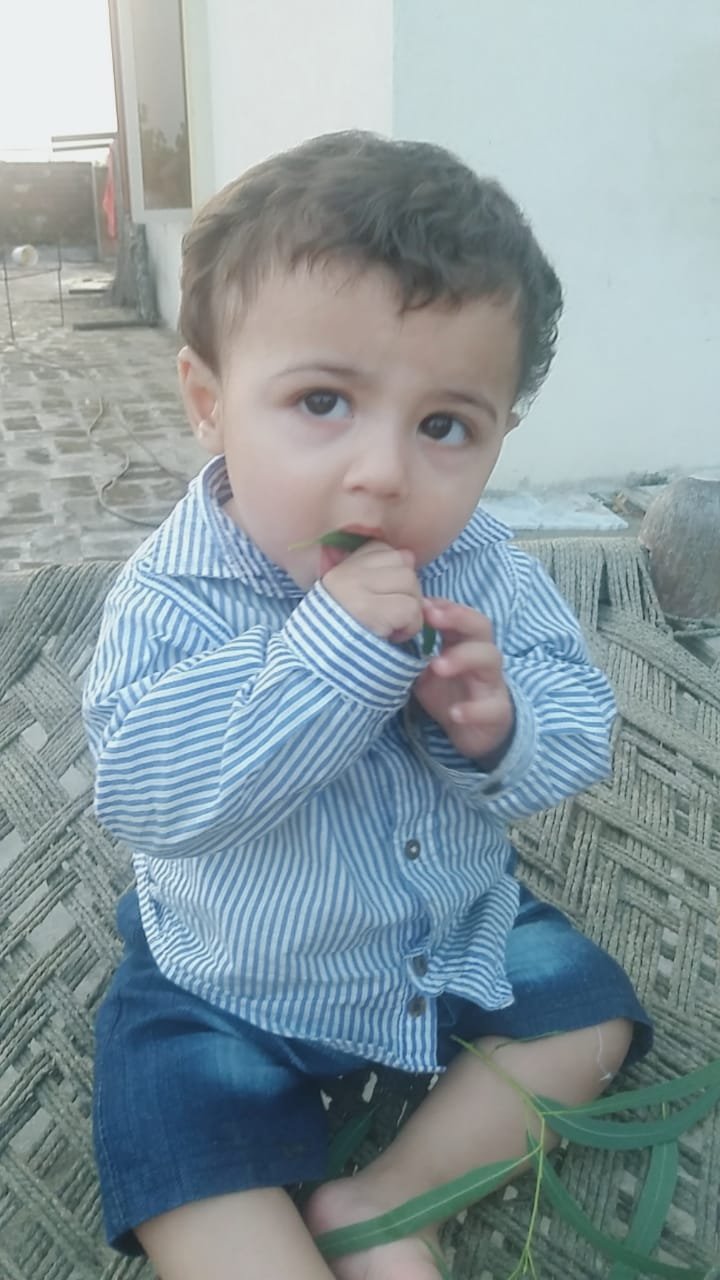NoMask: (259, 347, 499, 594)
